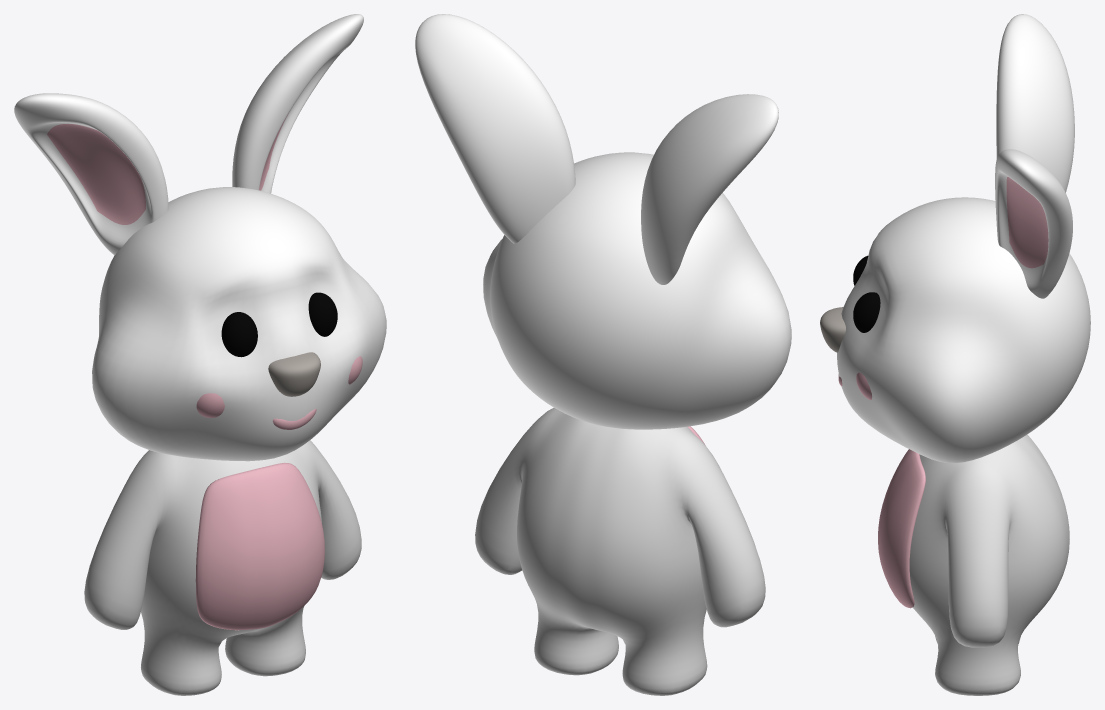
Rendered from Rabbit_3d.glb.
3 views of the same model, side by side, from view 1: azimuth 30°, elevation 25°; view 2: azimuth 150°, elevation 25°; view 3: azimuth 270°, elevation 25° (orthographic). The views are drawn at different scales.
Parts seen in each view (by area): view 1: Cube.139, Cube.144, Cube.142, Cube.145, Cube.140, Cube.141, Cube.146; view 2: Cube.139, Cube.144, Cube.142; view 3: Cube.139, Cube.144, Cube.142, Cube.145, Cube.140, Cube.141.
Boxes of the visible parts, left/top/right/bottom form: Cube.139: left=92, top=187, right=386, bottom=461; Cube.144: left=84, top=440, right=361, bottom=695; Cube.142: left=14, top=14, right=363, bottom=255; Cube.145: left=195, top=462, right=324, bottom=630; Cube.140: left=221, top=292, right=337, bottom=357; Cube.141: left=268, top=352, right=320, bottom=396; Cube.146: left=196, top=356, right=362, bottom=417; Cube.139: left=483, top=152, right=791, bottom=429; Cube.144: left=475, top=408, right=765, bottom=695; Cube.142: left=415, top=14, right=778, bottom=284; Cube.139: left=837, top=197, right=1090, bottom=463; Cube.144: left=909, top=434, right=1069, bottom=695; Cube.142: left=995, top=14, right=1074, bottom=298; Cube.145: left=878, top=449, right=925, bottom=608; Cube.140: left=853, top=255, right=880, bottom=332; Cube.141: left=820, top=307, right=845, bottom=352.
Size of the model in its own units: 3.48 by 5.9 by 2.49.
